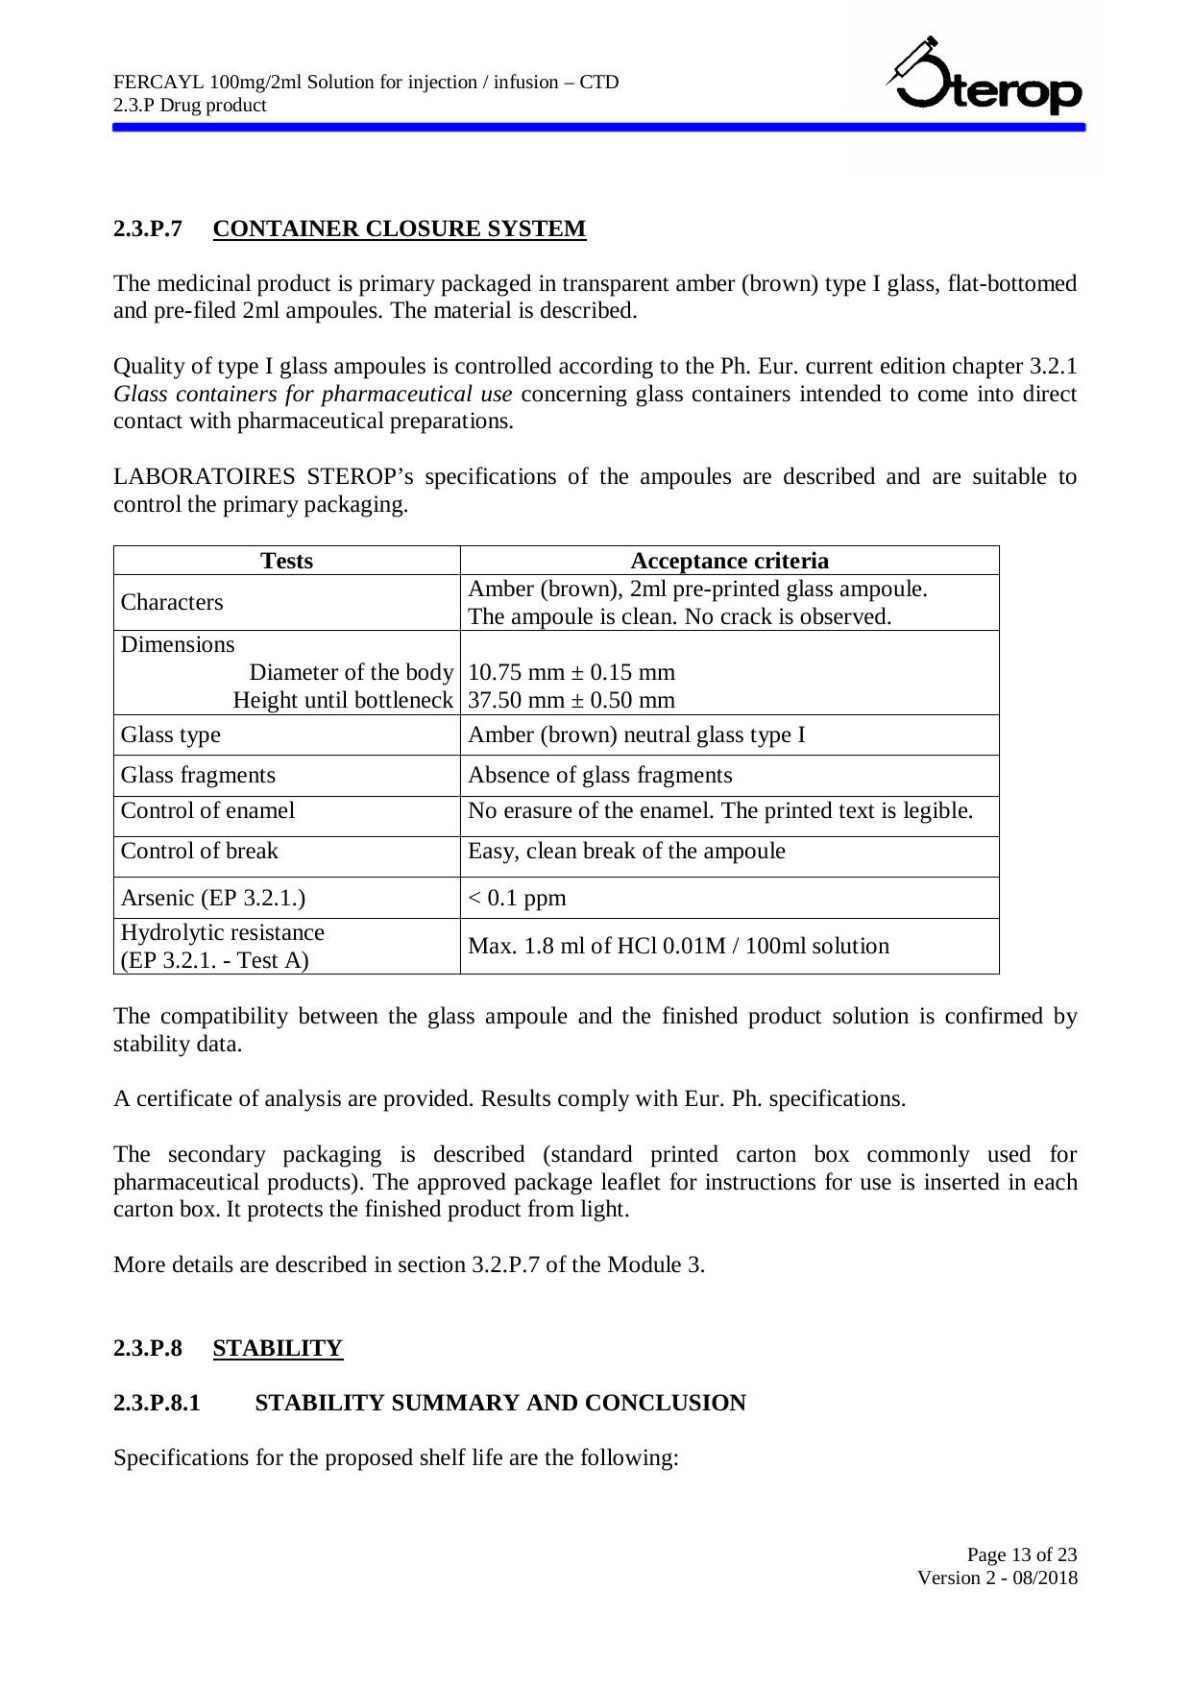full_lined: (112, 544, 1000, 975)
